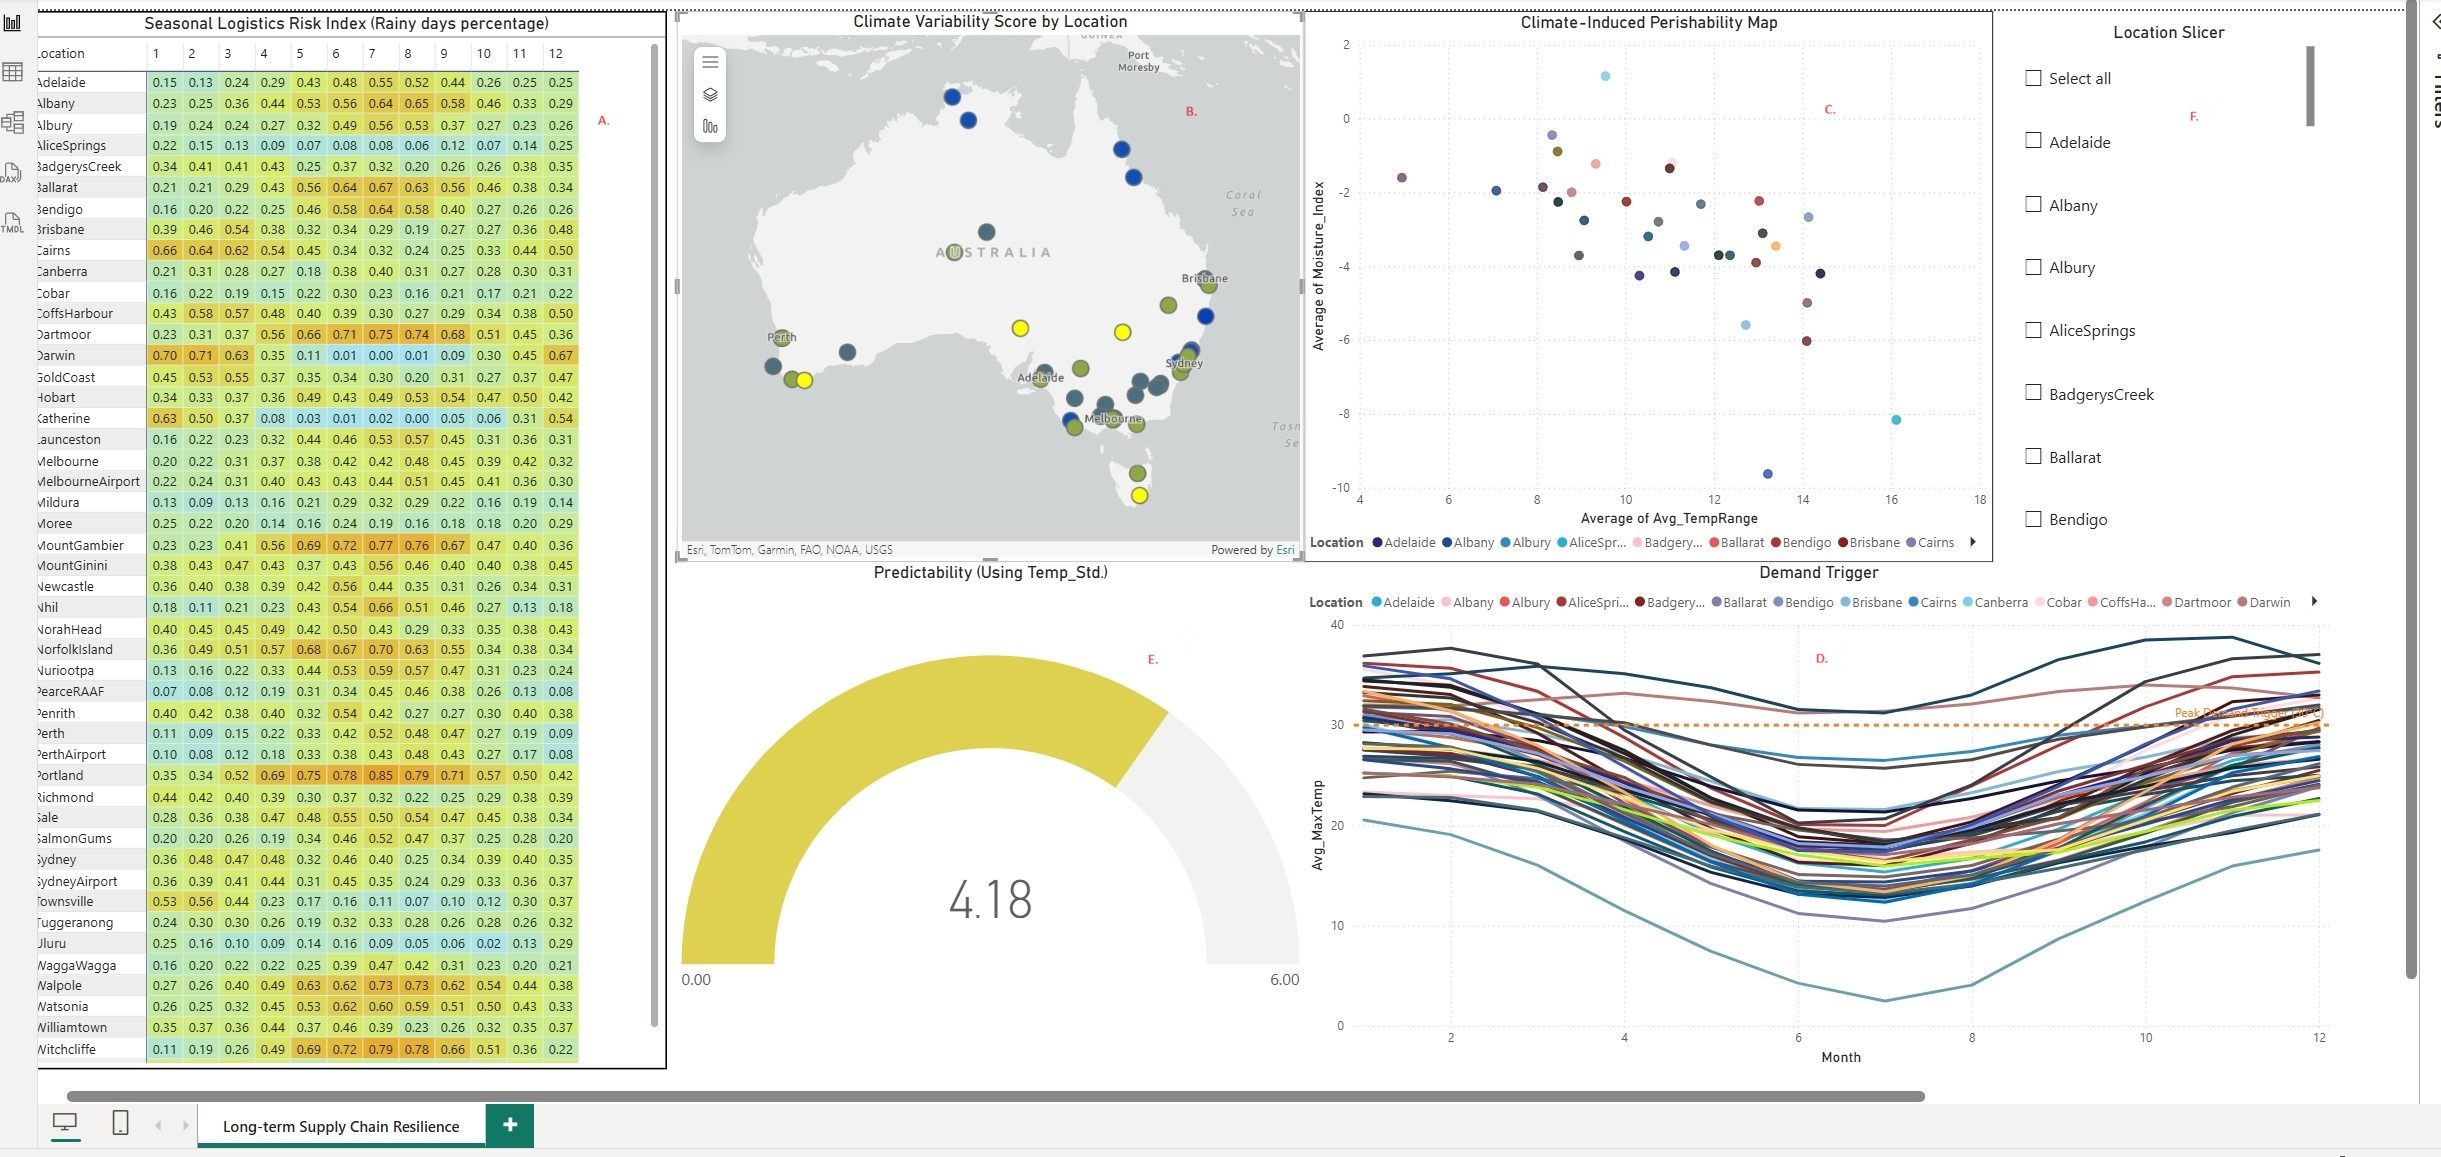

This screenshot's page, from the dashboard's own definition file:
{"tool":"powerbi","page":{"name":"Long-term Supply Chain Resilience","canvas":[3000,1200],"ordinal":0},"visuals":[{"type":"pivotTable","title":"Seasonal Logistics Risk Index (Rainy days percentage)","fields":{"Rows":["weather_data_location_month.Location"],"Columns":["weather_data_location_month.Month"],"Values":["Avg(weather_data_location_month.RainyDays_Percent)"]},"box":[10,0,643.8,1058.8],"z":0},{"type":"scatterChart","title":"Climate-Induced Perishability Map","fields":{"X":["Avg(weather_data_loc_based.Avg_TempRange)"],"Y":["Avg(weather_data_loc_based.Moisture_Index)"],"Series":["weather_data_loc_based.Location"]},"box":[1291.2,0,688.8,551.2],"z":1000},{"type":"lineChart","title":"Demand Trigger","fields":{"Category":["weather_data_location_month.Month"],"Y":["Avg(weather_data_location_month.Avg_MaxTemp)"],"Series":["weather_data_location_month.Location"]},"box":[1291.2,551.2,1030,507.5],"z":2000},{"type":"esriVisual","title":"Climate Variability Score by Location","fields":{"Location":["weather_data_loc_based.Location"],"Color":["Avg(weather_data_loc_based.Climate_Variability_Score)"]},"box":[663.8,0,627.5,551.2],"z":3000},{"type":"gauge","title":"Predictability (Using Temp_Std.)","fields":{"Y":["Avg(weather_data_loc_based.TempRange_std)"]},"box":[664,551,628,508],"z":4000},{"type":"listSlicer","title":"Location Slicer","fields":{"Values":["weather_data_loc_based.Location"]},"box":[2006.2,11.2,300,540],"z":5000}]}

Visuals, with their boxes on the page's 3000x1200 design canvas (x1, y1, x2, y2). These are canvas units, not pixel positions in the 2441x1157 screenshot, which may show the page scaled, cropped or inside an application window:
"Seasonal Logistics Risk Index (Rainy days percentage)" pivotTable: {"x1": 10, "y1": 0, "x2": 654, "y2": 1059}
"Climate-Induced Perishability Map" scatterChart: {"x1": 1291, "y1": 0, "x2": 1980, "y2": 551}
"Demand Trigger" lineChart: {"x1": 1291, "y1": 551, "x2": 2321, "y2": 1059}
"Climate Variability Score by Location" esriVisual: {"x1": 664, "y1": 0, "x2": 1291, "y2": 551}
"Predictability (Using Temp_Std.)" gauge: {"x1": 664, "y1": 551, "x2": 1292, "y2": 1059}
"Location Slicer" listSlicer: {"x1": 2006, "y1": 11, "x2": 2306, "y2": 551}
